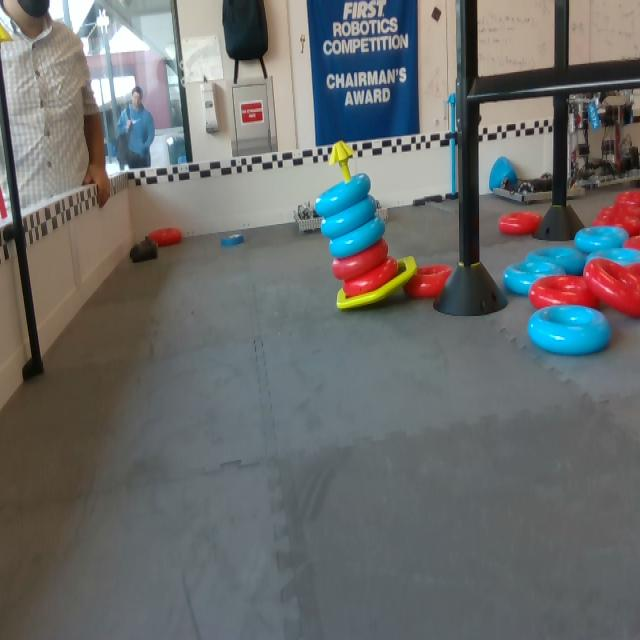Blue-Ring: (528, 305, 612, 355), (315, 173, 371, 217), (328, 217, 385, 260), (321, 196, 378, 237), (503, 263, 566, 295), (525, 248, 583, 274), (575, 228, 628, 254), (586, 248, 639, 266), (221, 233, 248, 248)
Mobile-Goal: (328, 138, 418, 309)
Red-Ring: (583, 259, 639, 317), (529, 275, 602, 311), (331, 238, 389, 283), (342, 256, 400, 296), (403, 265, 452, 297), (499, 211, 542, 234), (147, 227, 183, 246), (593, 212, 624, 227), (615, 191, 639, 207), (623, 214, 639, 236), (623, 261, 639, 277), (624, 235, 639, 250), (625, 234, 639, 250)
Yellow-Stake-Head: (329, 141, 355, 165), (1, 24, 14, 45)
zblue-Stake-Head: (447, 93, 456, 104)
